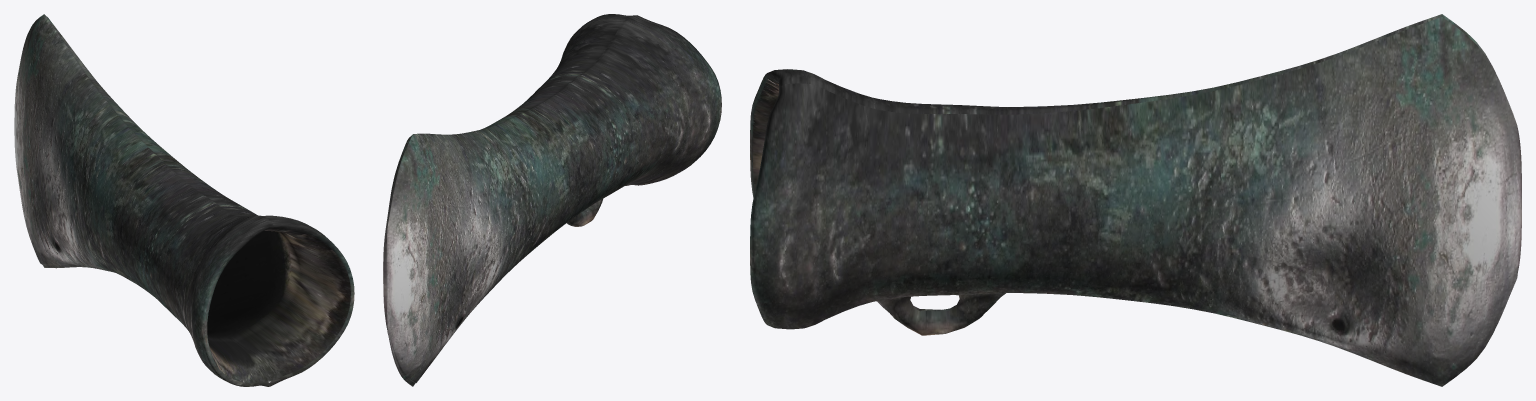
The model's file is palstave.glb.
3 views of the same model, side by side, from view 1: azimuth 30°, elevation 25°; view 2: azimuth 150°, elevation 25°; view 3: azimuth 270°, elevation 25° (orthographic). The views are drawn at different scales.
Visible parts, largest first — view 1: Cylinder; view 2: Cylinder; view 3: Cylinder.
Part boxes in pixels (<box>): Cylinder: <box>14,14,354,386</box>; Cylinder: <box>383,14,721,386</box>; Cylinder: <box>750,14,1521,386</box>.
Bounding box in the file's own units: 1.07 × 1.7 × 3.18.
1 material, 1 textured.
